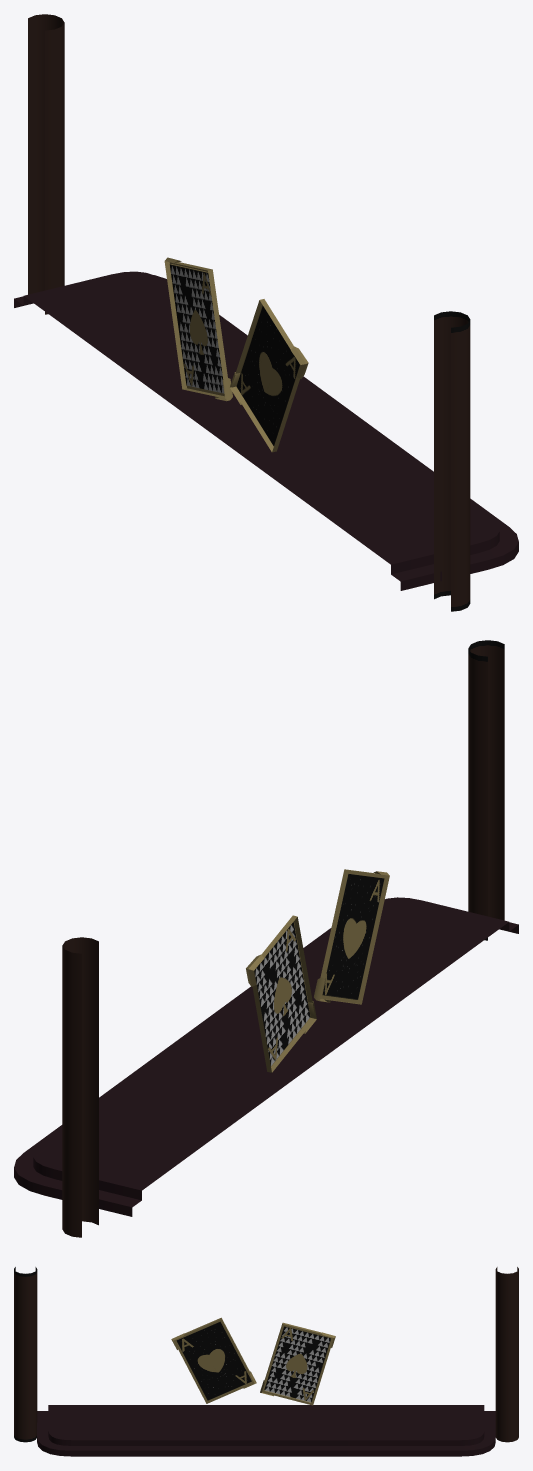
Rendered from mesh_wall_01.FBX.
3 views of the same model, one above another, from view 1: azimuth 30°, elevation 25°; view 2: azimuth 150°, elevation 25°; view 3: azimuth 270°, elevation 25° (orthographic). The views are drawn at different scales.
Visible parts, largest first — view 1: wall_01; view 2: wall_01; view 3: wall_01.
Boxes of the visible parts, <box> form: wall_01: <box>14,14,518,611</box>; wall_01: <box>14,640,518,1237</box>; wall_01: <box>14,1267,518,1456</box>.
Size of the model in its own units: 2.31 by 4.57 by 12.4.
Materials: 1 (1 with a texture image).
